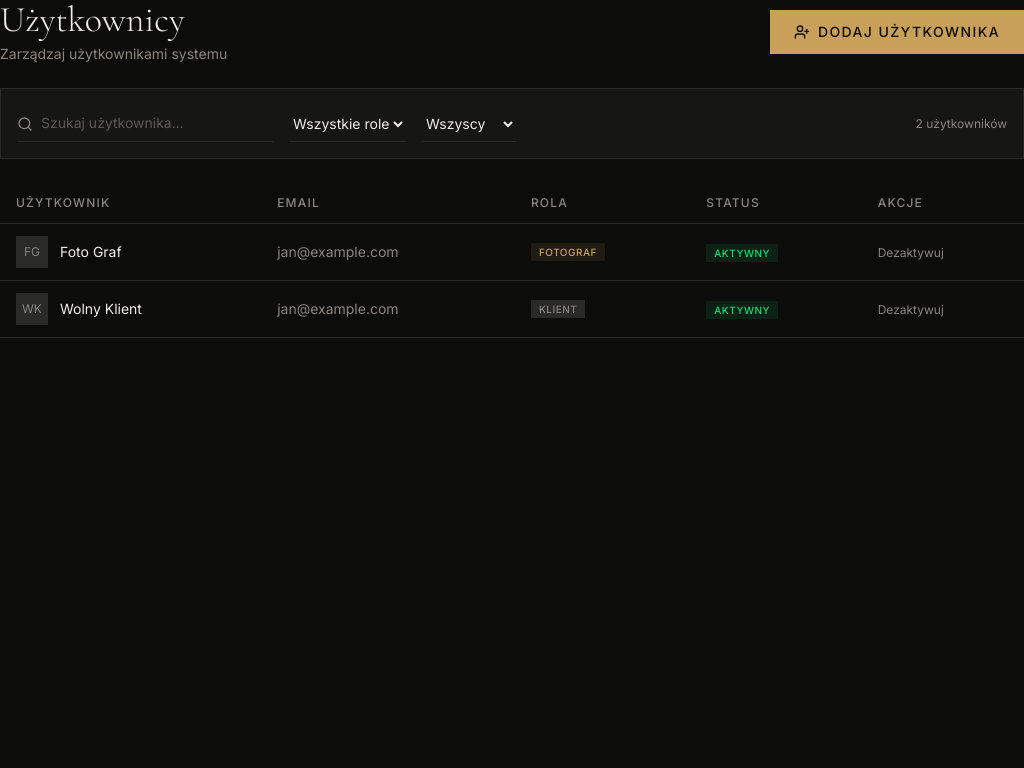
AdminUsers › Assignment stays disabled until at least one client is ticked, because an empty assignment is a pointless request
The image size is (1024, 768).
Step 1. Click the text "Foto Graf" → x=91, y=252, box [60,242,122,262]
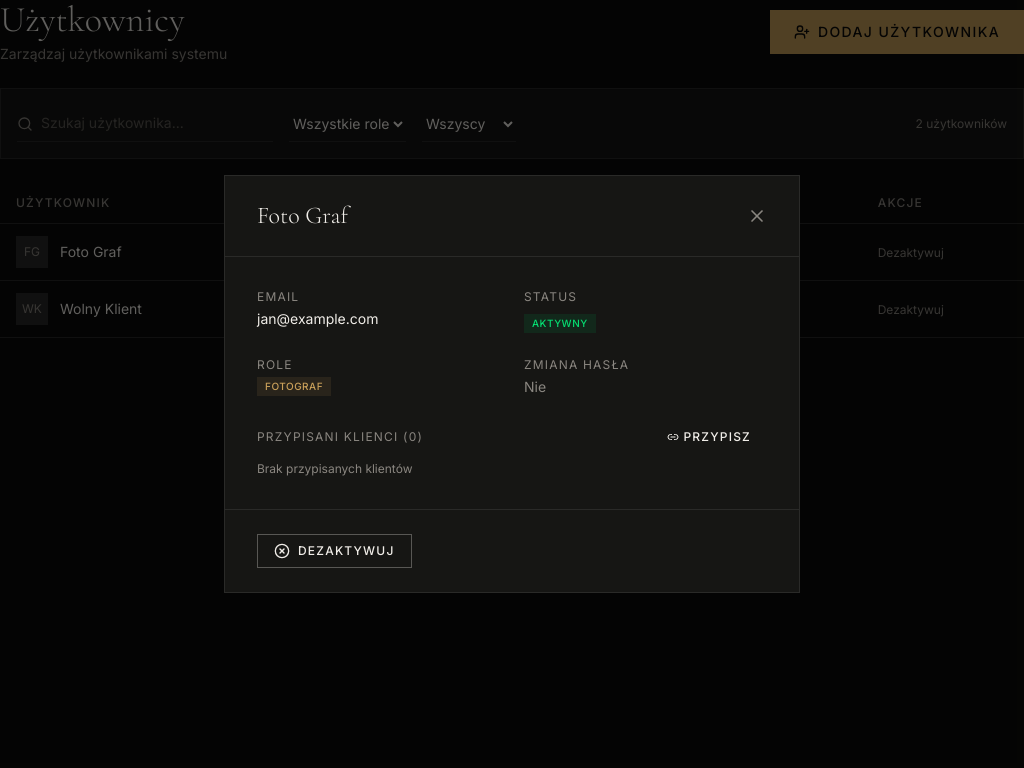
Step 2. Click the button "Przypisz" → x=709, y=437, box [652,421,767,453]
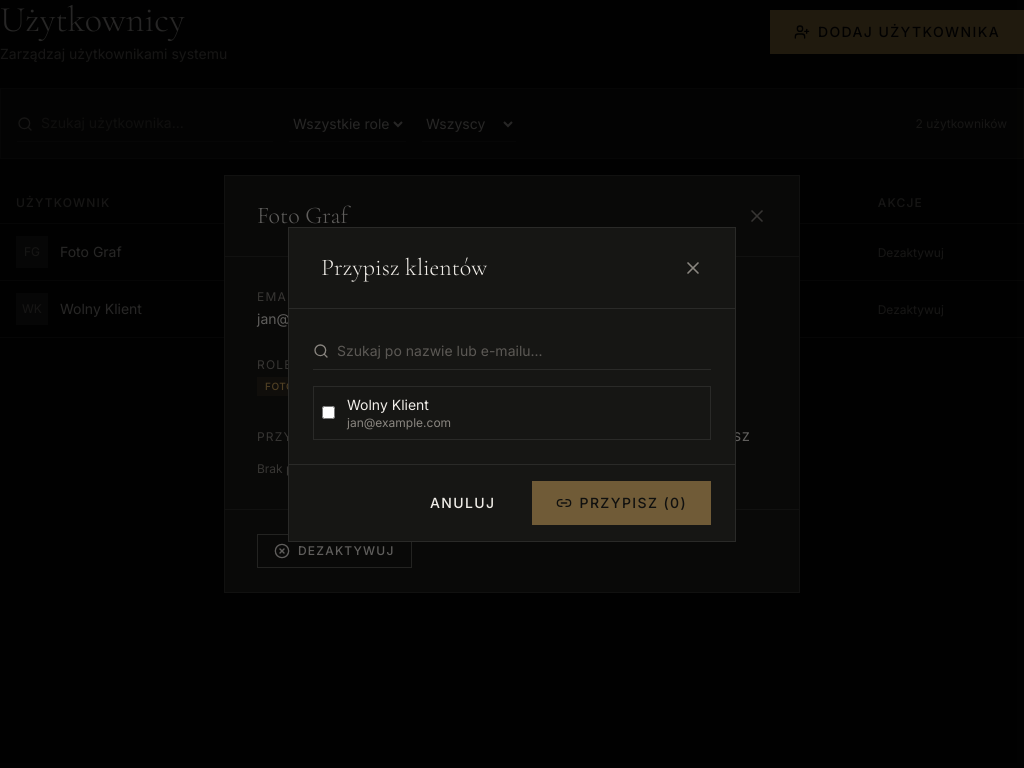
Check: the button "Przypisz (0)" is disabled, box [532,480,711,524]
Step 3. Click the checkbox → x=328, y=412, box [322,406,335,419]
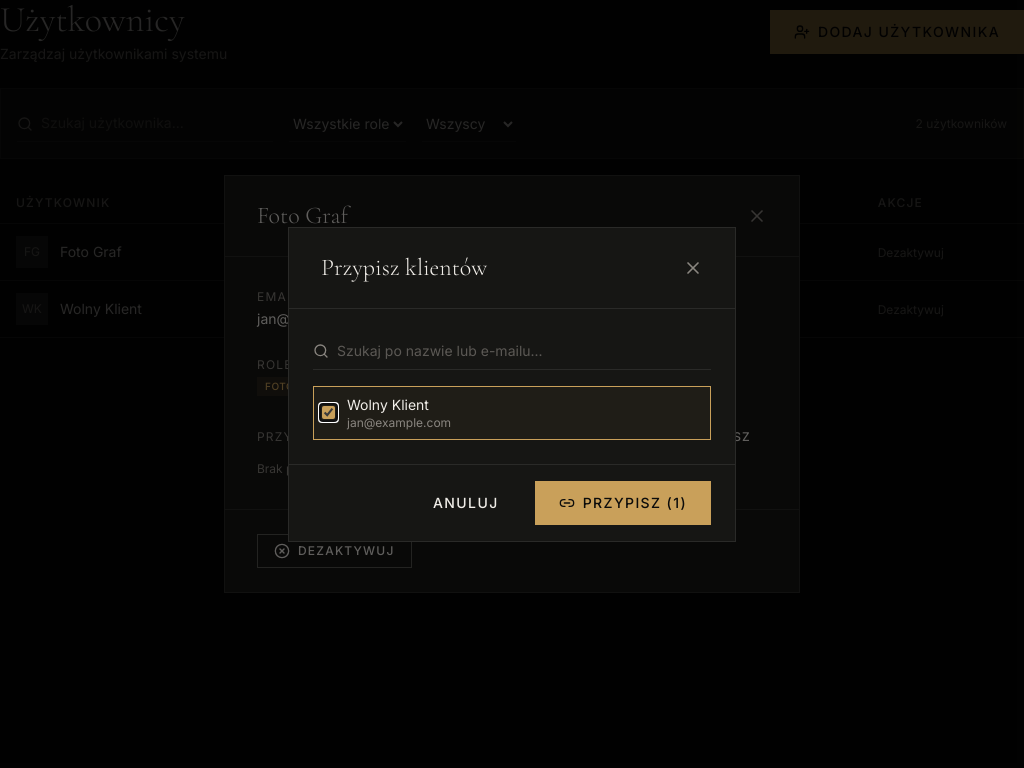
Check: the button "Przypisz (1)" is enabled, box [535,480,711,524]
